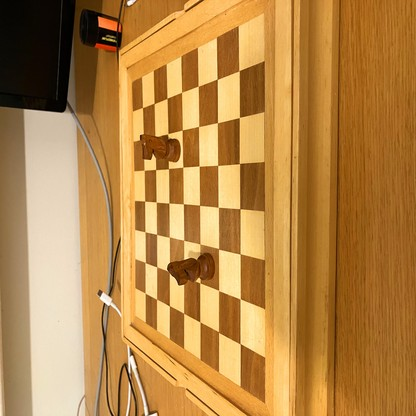knight_black: (168, 254, 215, 284), (139, 135, 180, 161)
